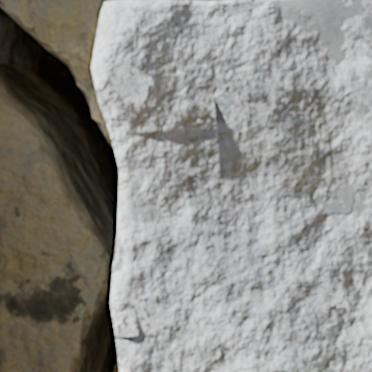brick: (92, 0, 371, 371)
crack: (0, 0, 119, 371)
